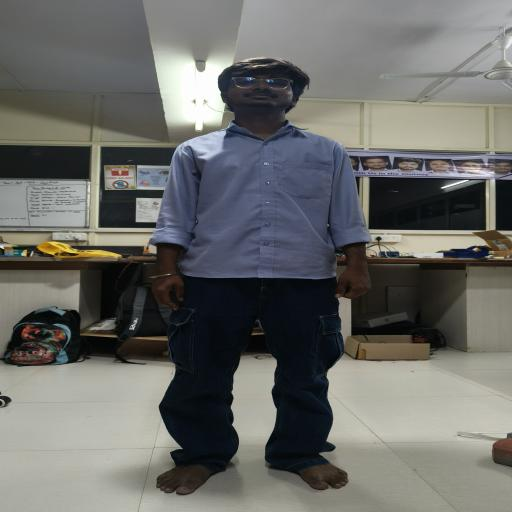survivor: (148, 57, 372, 495)
